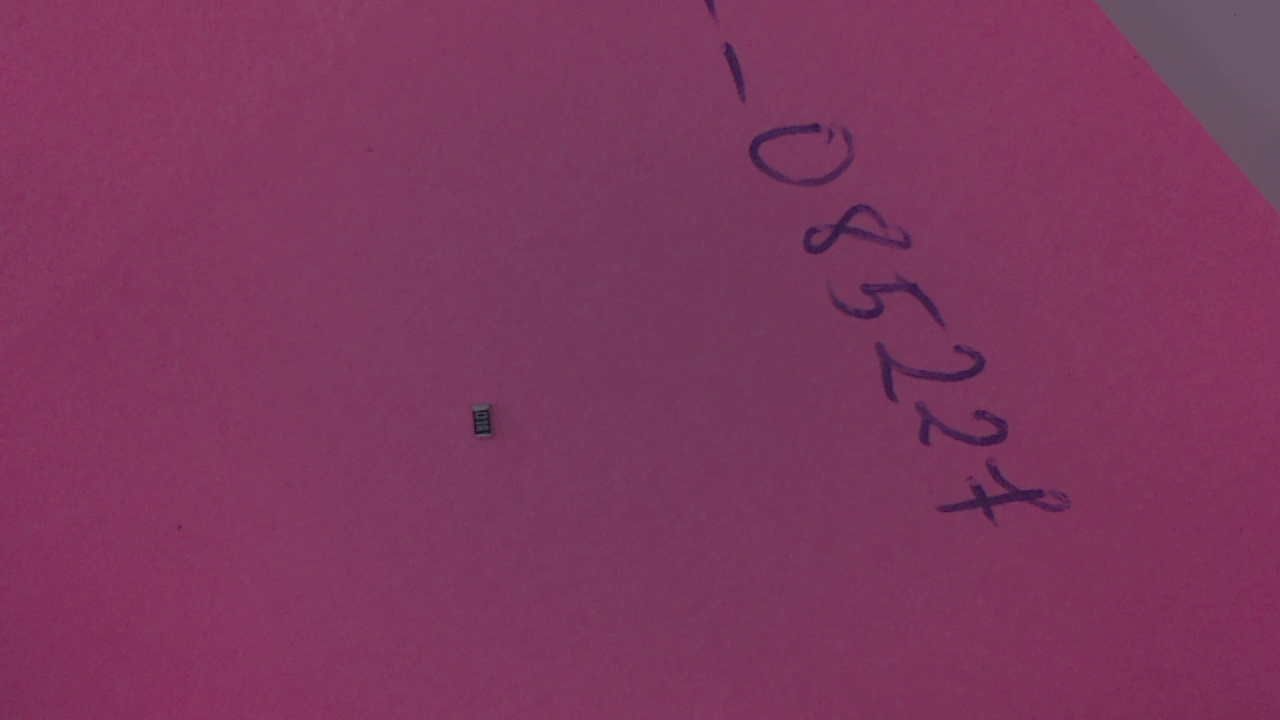Resistor: (475, 404, 501, 449)
